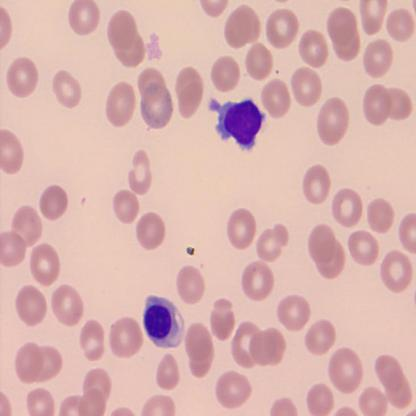NRC: (216, 96, 267, 153), (141, 292, 186, 350)
